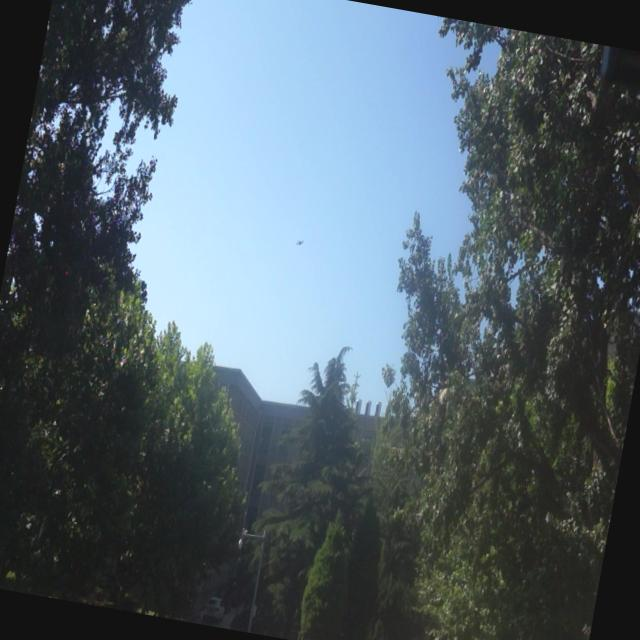drone: (295, 234, 306, 249)
